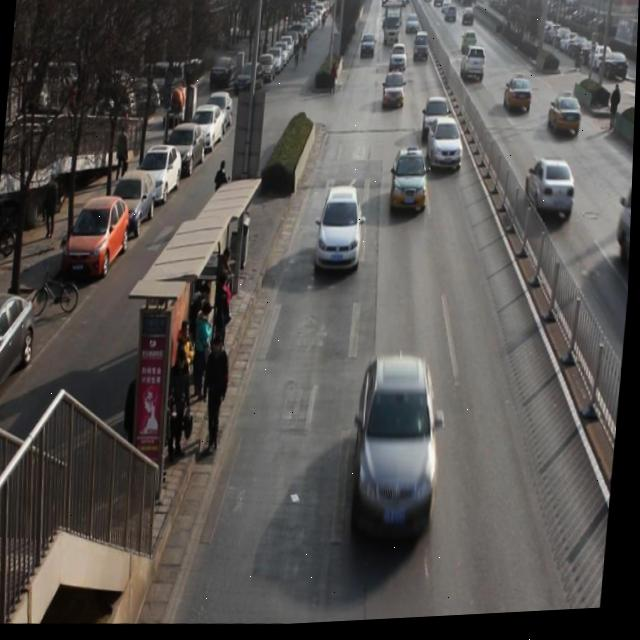car: (347, 354, 454, 558), (316, 189, 369, 277), (522, 161, 581, 223), (389, 153, 431, 216), (424, 122, 467, 177), (548, 97, 585, 144), (420, 100, 453, 140), (502, 81, 534, 121), (379, 75, 408, 115), (459, 53, 488, 89), (388, 46, 409, 76), (359, 36, 379, 67), (413, 37, 431, 67)
truck: (615, 187, 634, 290)
